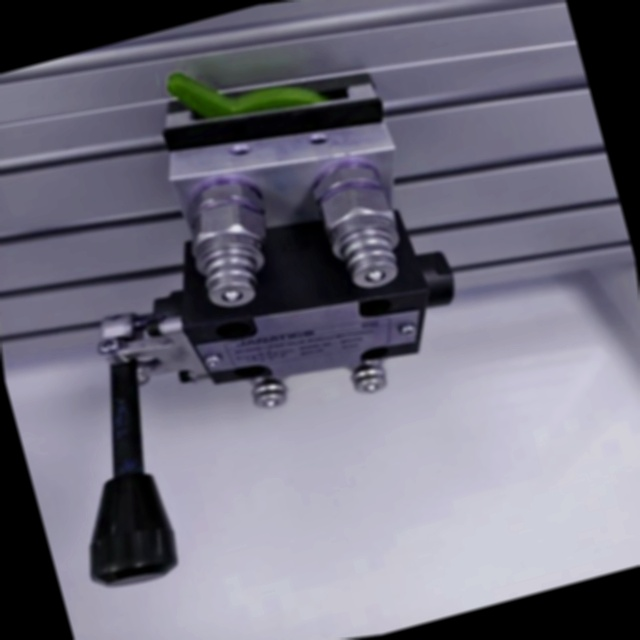4by3 hand lever valve: (0, 0, 563, 640)
